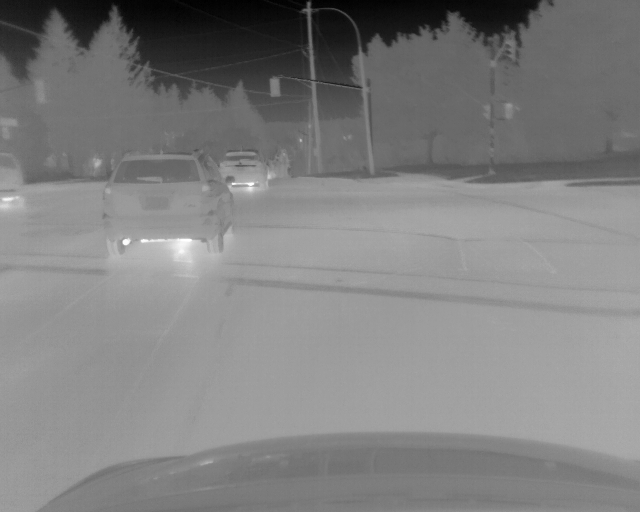car: (101, 151, 237, 256), (219, 149, 268, 190), (1, 154, 26, 214)
